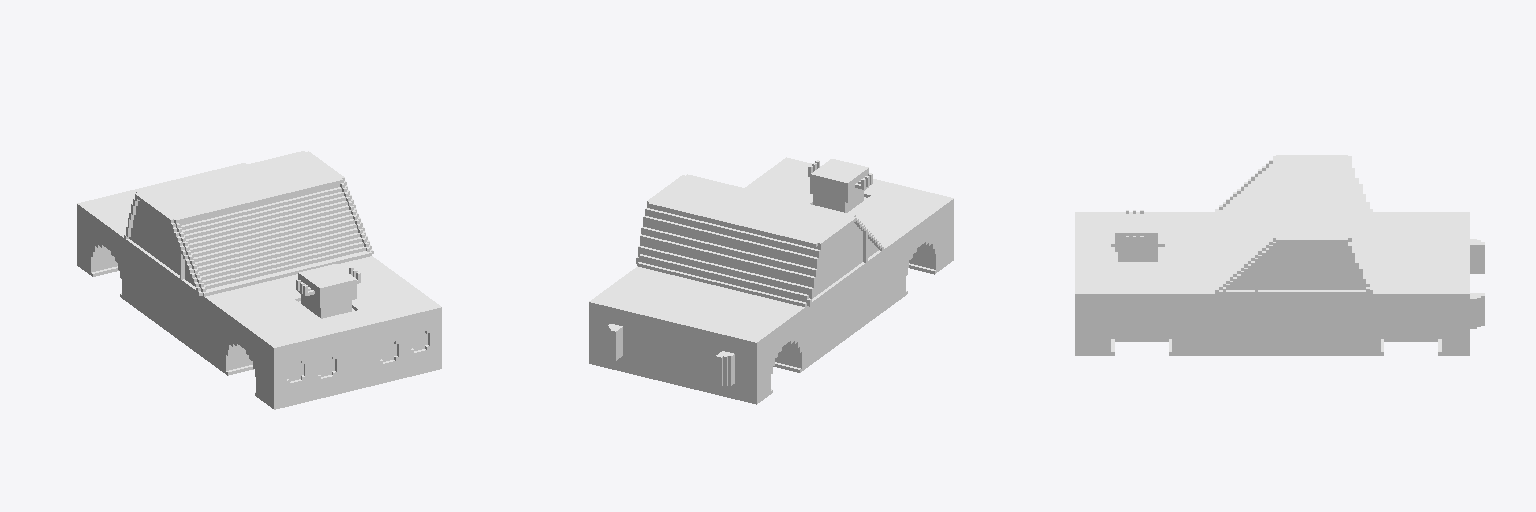
File: Car4Mesh.obj
The picture shows the model from 3 angles: view 1: azimuth 30°, elevation 25°; view 2: azimuth 150°, elevation 25°; view 3: azimuth 270°, elevation 25°; orthographic projection.
Visible parts, largest first — view 1: Car4Mesh; view 2: Car4Mesh; view 3: Car4Mesh.
Boxes of the visible parts, <box> form: Car4Mesh: <box>77,151,441,409</box>; Car4Mesh: <box>589,157,953,404</box>; Car4Mesh: <box>1075,155,1484,355</box>.
Bounding box in the file's own units: 56 × 36 × 114.